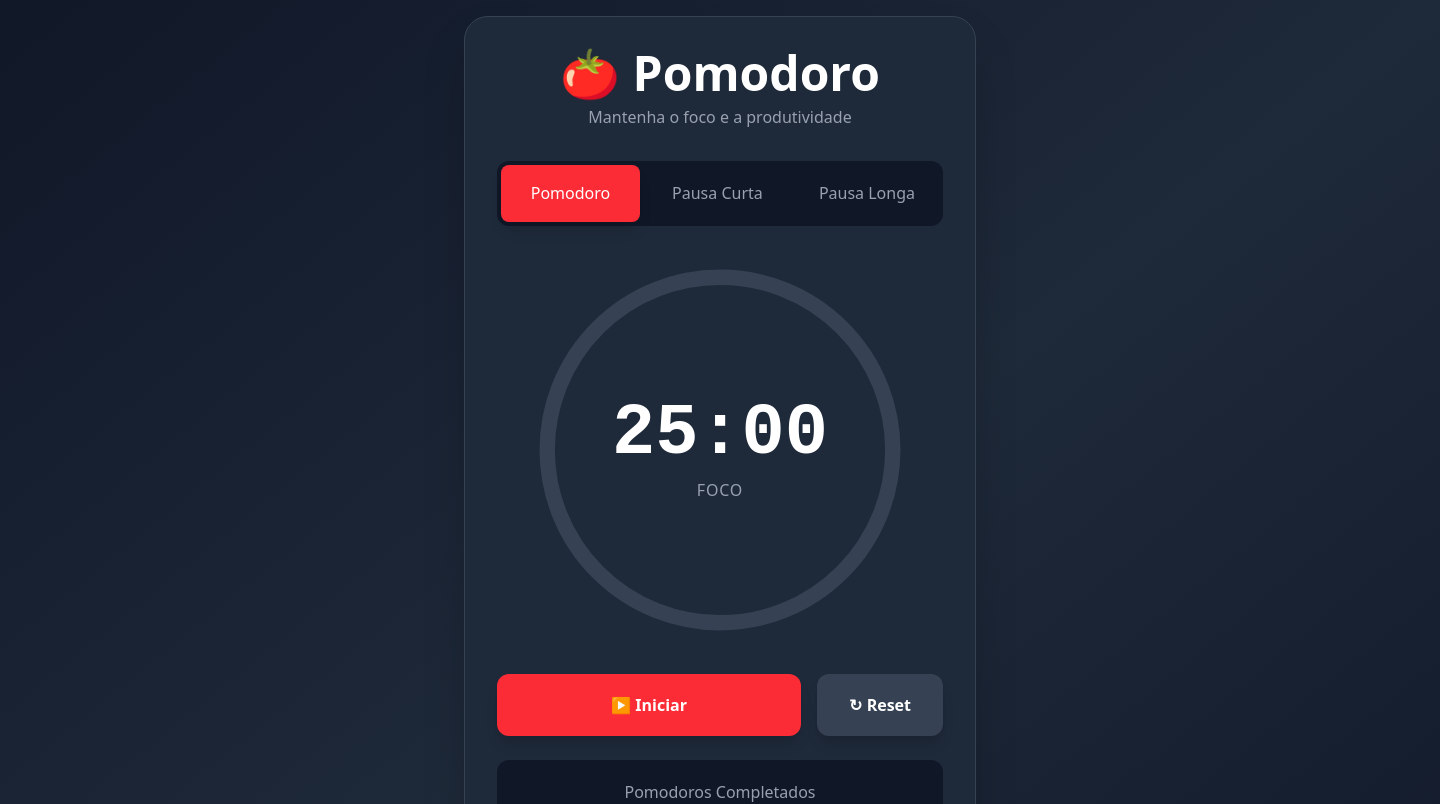
Test case: Pomodoro Timer - Business Rules › RN-007: Controles do Timer › deve pausar o timer ao clicar em Pausar
The image size is (1440, 804).
Click the button "▶ Iniciar" at x=649, y=705, box [497, 674, 801, 736]
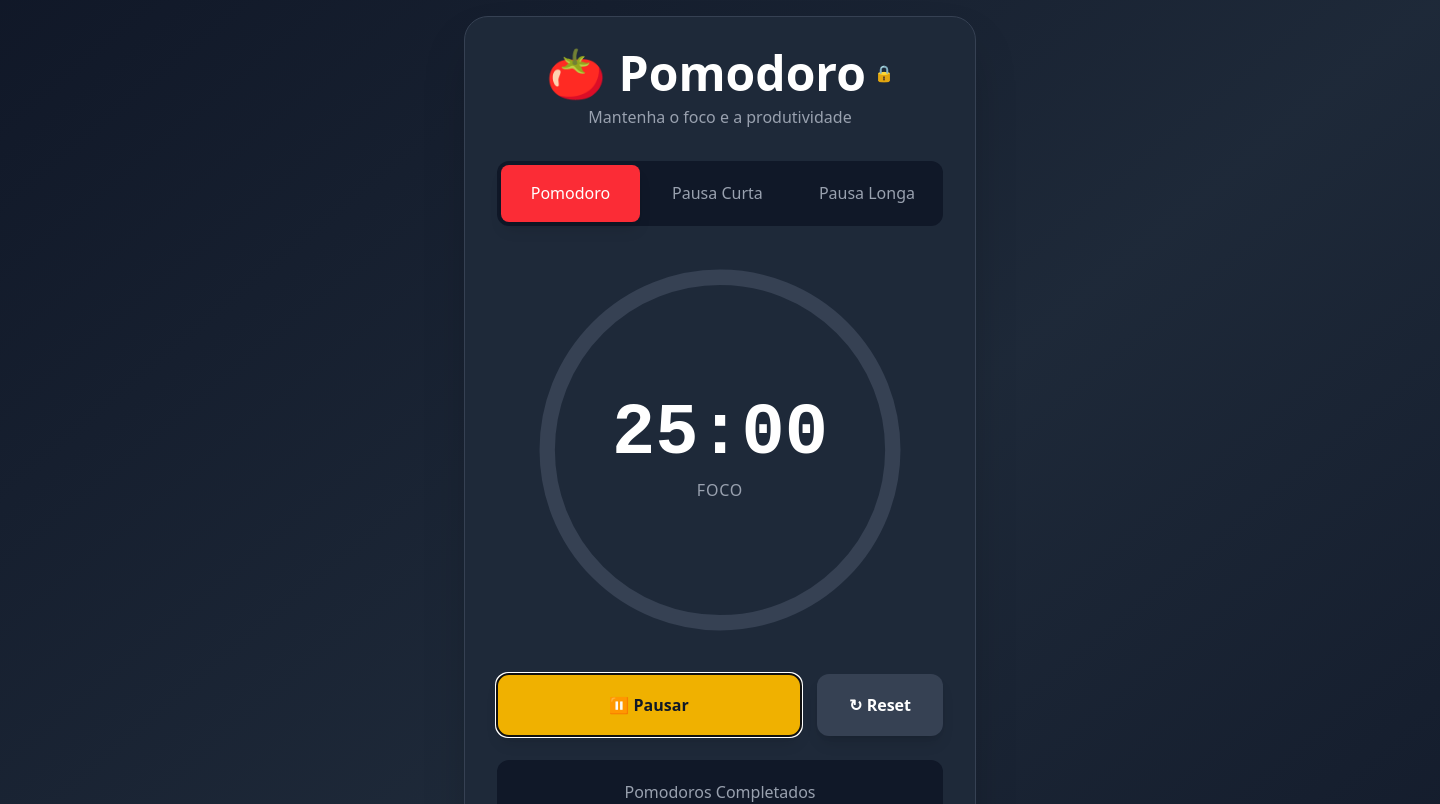
Click the button "⏸ Pausar" at x=649, y=705, box [497, 674, 801, 736]
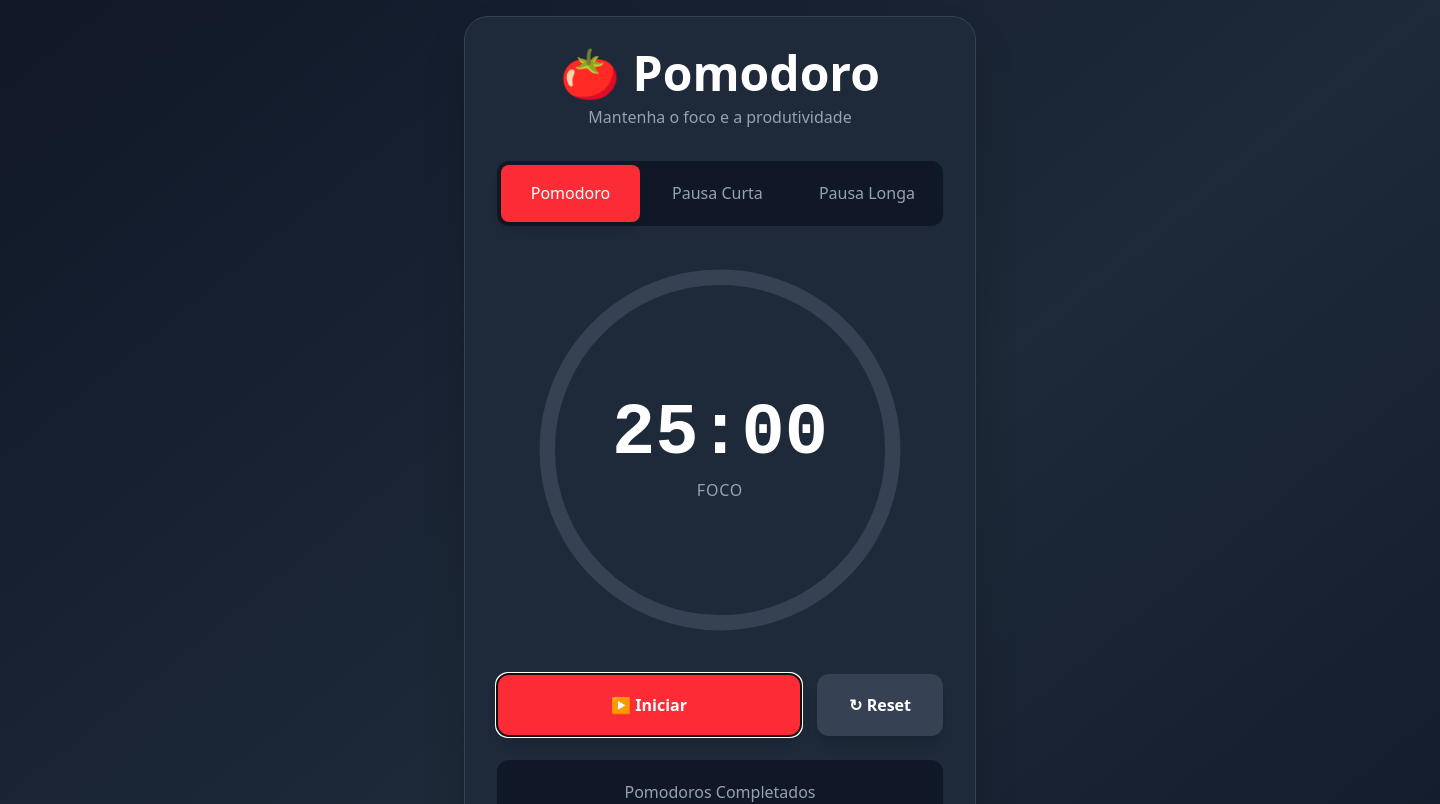
Check: the button "▶ Iniciar" is shown, box [497, 674, 801, 736]
